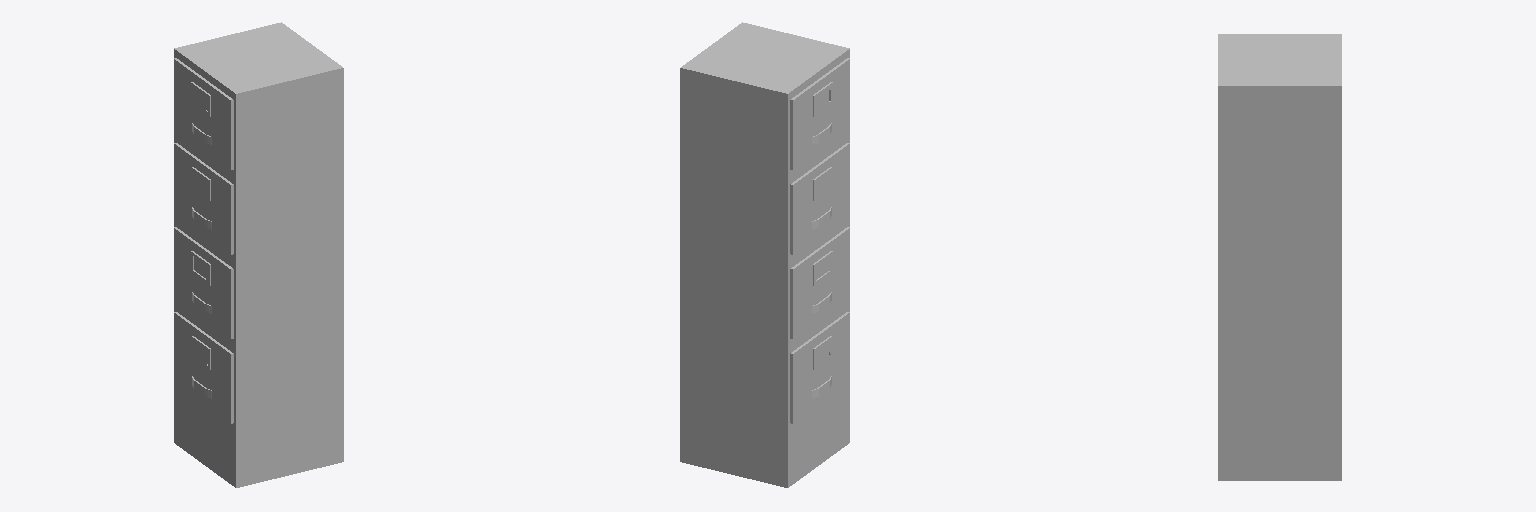
File: fileCabnet (does not open).obj
3 views of the same model, side by side, from view 1: azimuth 30°, elevation 25°; view 2: azimuth 150°, elevation 25°; view 3: azimuth 270°, elevation 25° (orthographic).
Parts seen in each view (by area): view 1: Cube.006_Cube.019, Cube; view 2: Cube.006_Cube.019, Cube; view 3: Cube.006_Cube.019, Cube.
Part boxes in pixels (bbox=[...]): Cube.006_Cube.019: bbox=[174, 22, 343, 431]; Cube: bbox=[174, 349, 343, 487]; Cube.006_Cube.019: bbox=[680, 22, 849, 431]; Cube: bbox=[680, 369, 849, 487]; Cube.006_Cube.019: bbox=[1218, 34, 1341, 423]; Cube: bbox=[1218, 371, 1341, 480].
Bounding box in the file's own units: 2.1 × 7 × 2.